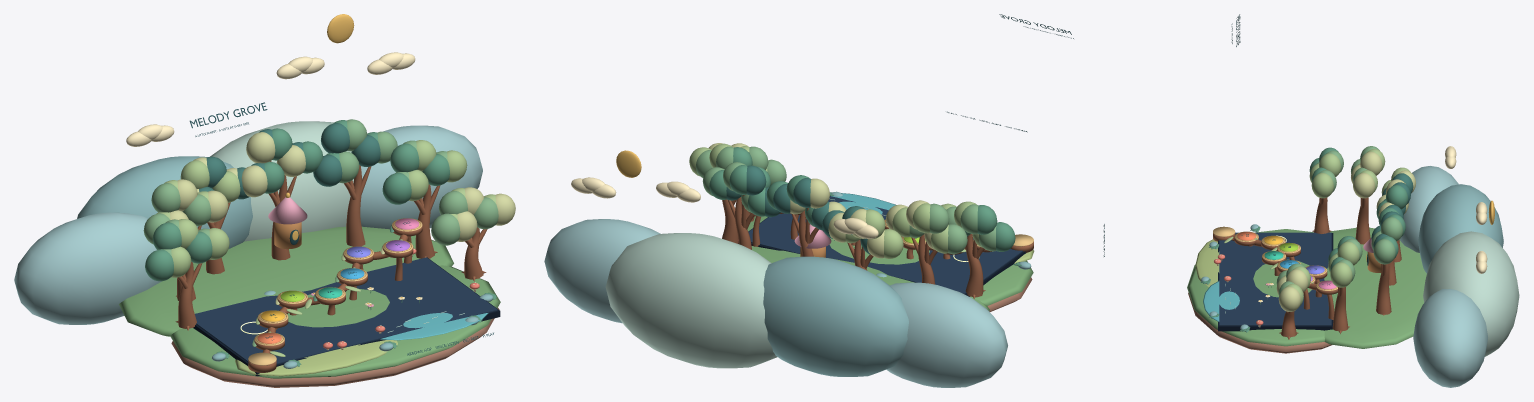
File: melody_grove.glb
The picture shows the model from 3 angles, left to right: view 1: azimuth 30°, elevation 25°; view 2: azimuth 150°, elevation 25°; view 3: azimuth 270°, elevation 25°; orthographic projection. The views are drawn at different scales.
Parts seen in each view (by area): view 1: Grove_distant rolling hill, Grove_forest floor, MS_Stage_Surface, Grove_velvet meadow, Grove_distant rolling hill.002, Grove_distant rolling hill.003, Grove_distant rolling hill.001, Grove_island earth, Grove_front moss bank, Grove_pond, Grove_storybook tree 4 trunk, Grove_storybook tree 5 trunk (+42 smaller); view 2: Grove_distant rolling hill.002, Grove_distant rolling hill.001, Grove_distant rolling hill, Grove_distant rolling hill.003, MS_Stage_Surface, Grove_velvet meadow, Grove_forest floor, Grove_storybook tree 0 trunk, Grove_pond, Grove_morning sun, Grove_storybook tree 4 crown.006, Grove_storybook tree 3 crown.006 (+8 smaller); view 3: Grove_forest floor, Grove_distant rolling hill.002, MS_Stage_Surface, Grove_distant rolling hill.003, Grove_distant rolling hill.001, Grove_velvet meadow, Grove_distant rolling hill, Grove_island earth, Grove_pond, Grove_front moss bank, Grove_storybook tree 4 trunk, MS_Stage_Base (+12 smaller).
Boxes of the visible parts, bbox=[...] form: Grove_distant rolling hill: bbox=[14, 212, 161, 324]; Grove_forest floor: bbox=[119, 226, 453, 336]; MS_Stage_Surface: bbox=[195, 257, 497, 364]; Grove_velvet meadow: bbox=[170, 265, 500, 378]; Grove_distant rolling hill.002: bbox=[210, 121, 353, 241]; Grove_distant rolling hill.003: bbox=[360, 125, 482, 229]; Grove_distant rolling hill.001: bbox=[77, 156, 252, 248]; Grove_island earth: bbox=[171, 308, 499, 387]; Grove_front moss bank: bbox=[235, 340, 397, 376]; Grove_pond: bbox=[380, 313, 488, 340]; Grove_storybook tree 4 trunk: bbox=[346, 165, 365, 246]; Grove_storybook tree 5 trunk: bbox=[415, 184, 434, 258]; Grove_distant rolling hill.002: bbox=[605, 233, 777, 368]; Grove_distant rolling hill.001: bbox=[763, 256, 908, 376]; Grove_distant rolling hill: bbox=[886, 282, 1007, 387]; Grove_distant rolling hill.003: bbox=[544, 219, 660, 323]; MS_Stage_Surface: bbox=[748, 196, 1022, 294]; Grove_velvet meadow: bbox=[747, 216, 1033, 305]; Grove_forest floor: bbox=[751, 246, 989, 310]; Grove_storybook tree 0 trunk: bbox=[965, 234, 983, 297]; Grove_pond: bbox=[830, 192, 896, 214]; Grove_morning sun: bbox=[616, 150, 641, 177]; Grove_storybook tree 4 crown.006: bbox=[746, 165, 766, 195]; Grove_storybook tree 3 crown.006: bbox=[810, 178, 829, 208]; Grove_forest floor: bbox=[1324, 227, 1426, 348]; Grove_distant rolling hill.002: bbox=[1423, 231, 1519, 356]; MS_Stage_Surface: bbox=[1219, 232, 1331, 325]; Grove_distant rolling hill.003: bbox=[1413, 289, 1487, 387]; Grove_distant rolling hill.001: bbox=[1418, 184, 1503, 273]; Grove_velvet meadow: bbox=[1187, 229, 1324, 346]; Grove_distant rolling hill: bbox=[1399, 166, 1458, 252]; Grove_island earth: bbox=[1188, 292, 1331, 353]; Grove_pond: bbox=[1203, 281, 1239, 321]; Grove_front moss bank: bbox=[1195, 239, 1219, 286]; Grove_storybook tree 4 trunk: bbox=[1376, 263, 1391, 314]; MS_Stage_Base: bbox=[1218, 233, 1333, 331].
Size of what is drawn, in the model's own units: 42 by 25.7 by 40.39.
